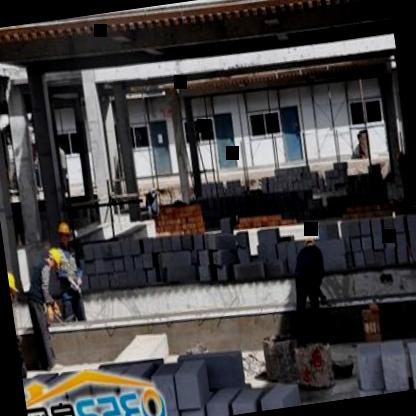helmet: (6, 262, 23, 308), (43, 242, 64, 272), (54, 218, 73, 249)
